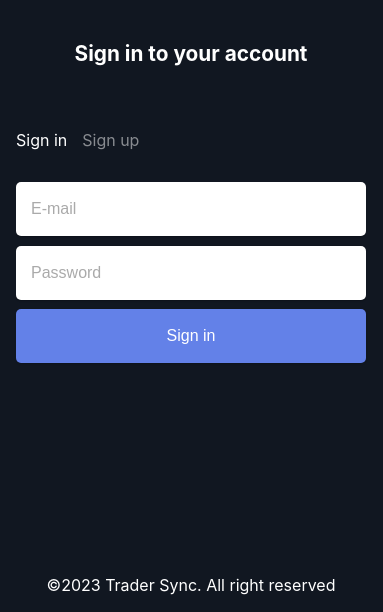
Scenario: renders sign up form when click sign up label
The image size is (383, 612).
Click the list item with test id "sign-up-label" at (111, 140), box [82,128,139,152]
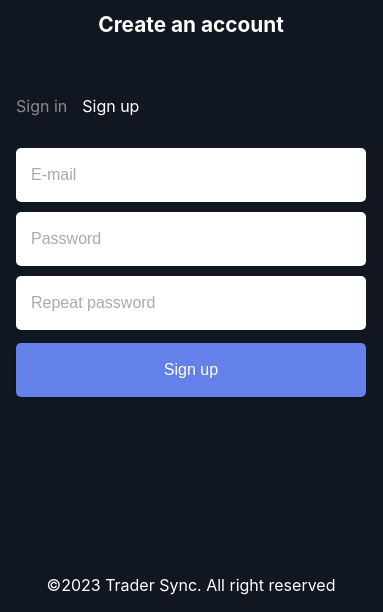
Expected: the button with test id "sign-up-btn" reads "Sign up", [16,343,366,397]
